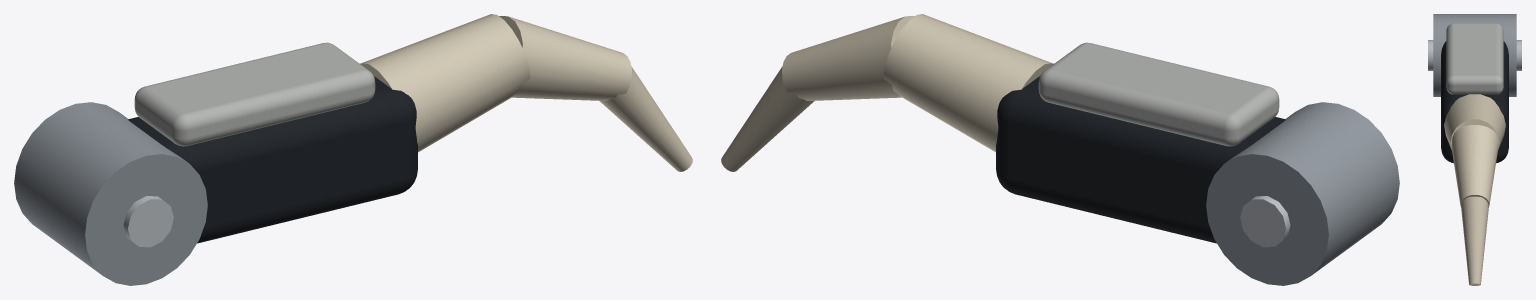
The model's file is right_toe_2_distal_link.glb.
3 views of the same model, side by side, from view 1: azimuth 30°, elevation 25°; view 2: azimuth 150°, elevation 25°; view 3: azimuth 270°, elevation 25° (orthographic). The views are drawn at different scales.
Visible parts, largest first — view 1: right_toe_2_distal_link; view 2: right_toe_2_distal_link; view 3: right_toe_2_distal_link.
Part boxes in pixels (left/top/right/bottom): right_toe_2_distal_link: left=14, top=14, right=692, bottom=285; right_toe_2_distal_link: left=721, top=14, right=1399, bottom=285; right_toe_2_distal_link: left=1428, top=14, right=1521, bottom=285.
Size of the model in its own units: 0.1671 by 0.049 by 0.036.
